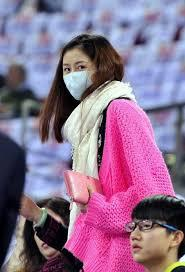NONE: (131, 219, 170, 264)
OK: (61, 59, 99, 98)
